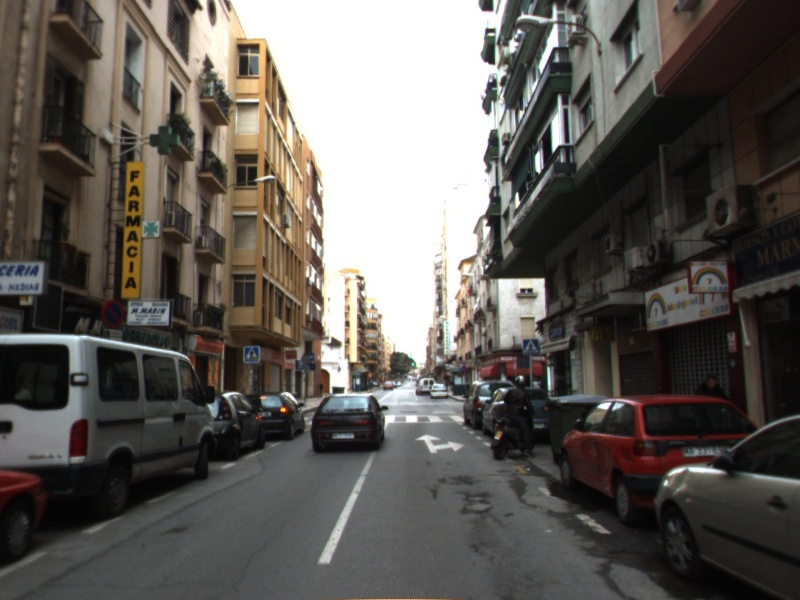STRAIGHT_RIGHT: (413, 433, 466, 455)
